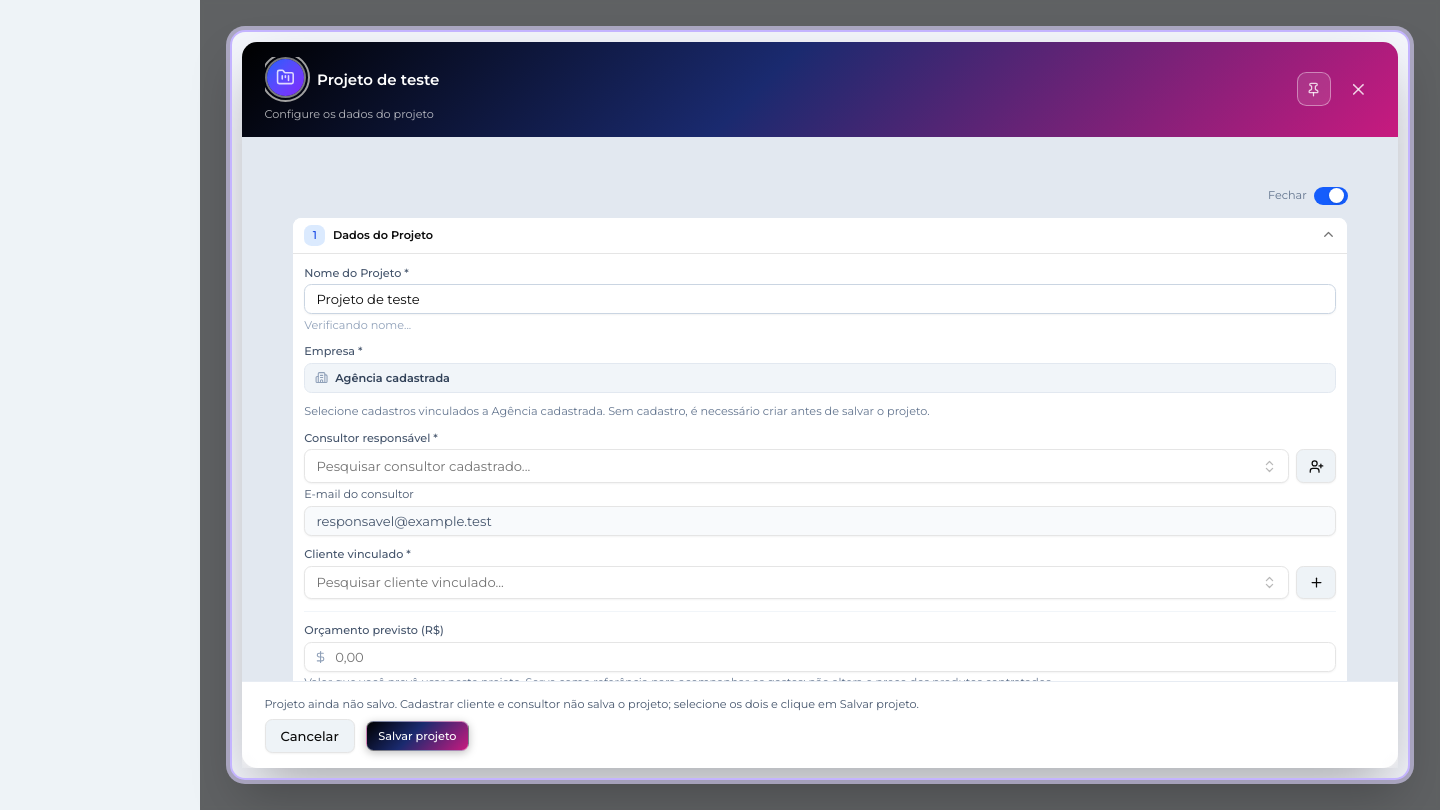
Test case: Formulário REAL de projeto dentro do checkout › reúne orçamento e configurações no único bloco Dados do Projeto, visíveis e salvos juntos
Later steps or results of the test are not shown.
Type "500,00" into the field labelled "Orçamento previsto (R$)". click: (820, 656)
box: [304,642,1336,672]
(page scrolled)
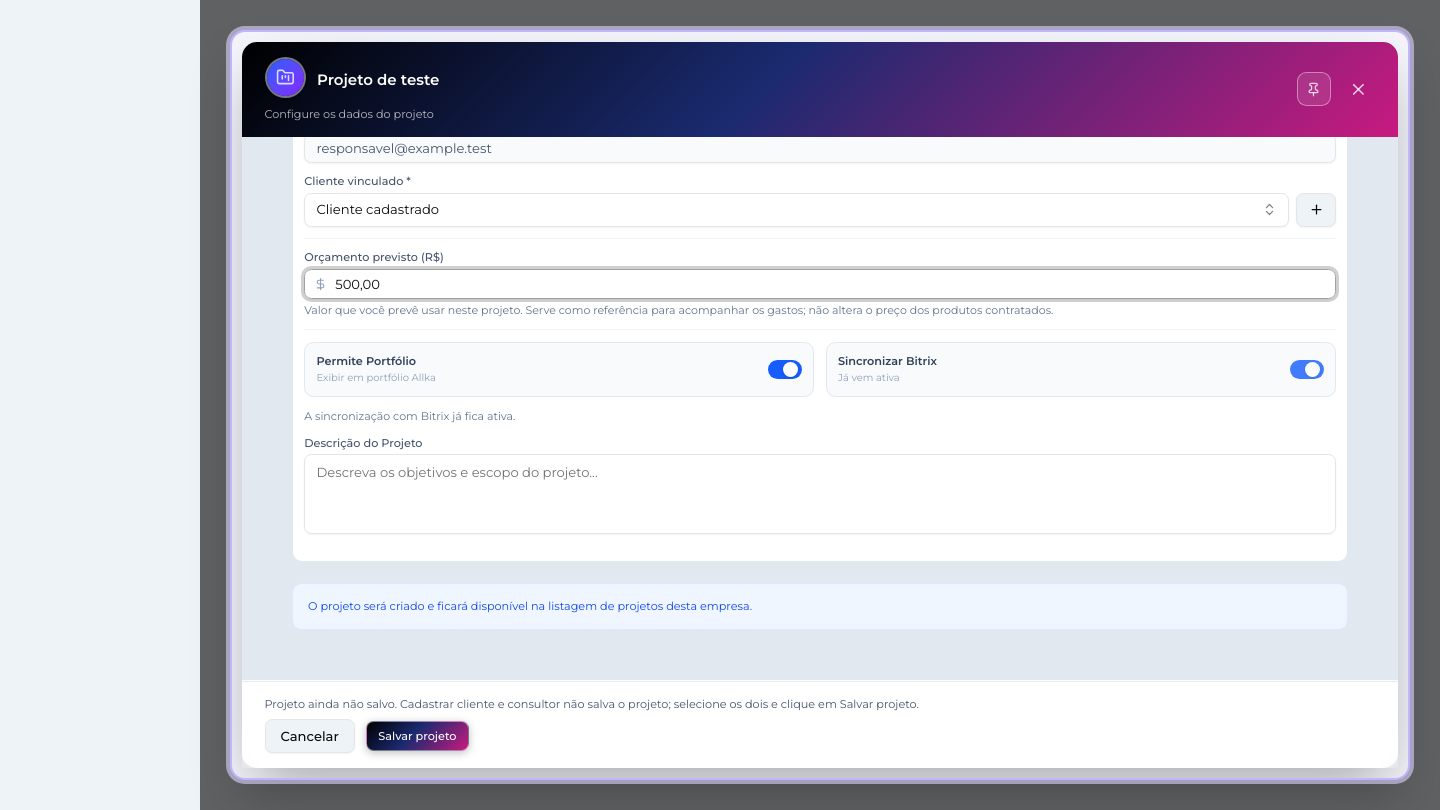
Type "Objetivos de teste" into the text box labelled "Descrição do Projeto". click: (820, 494)
box: [304,454,1336,534]
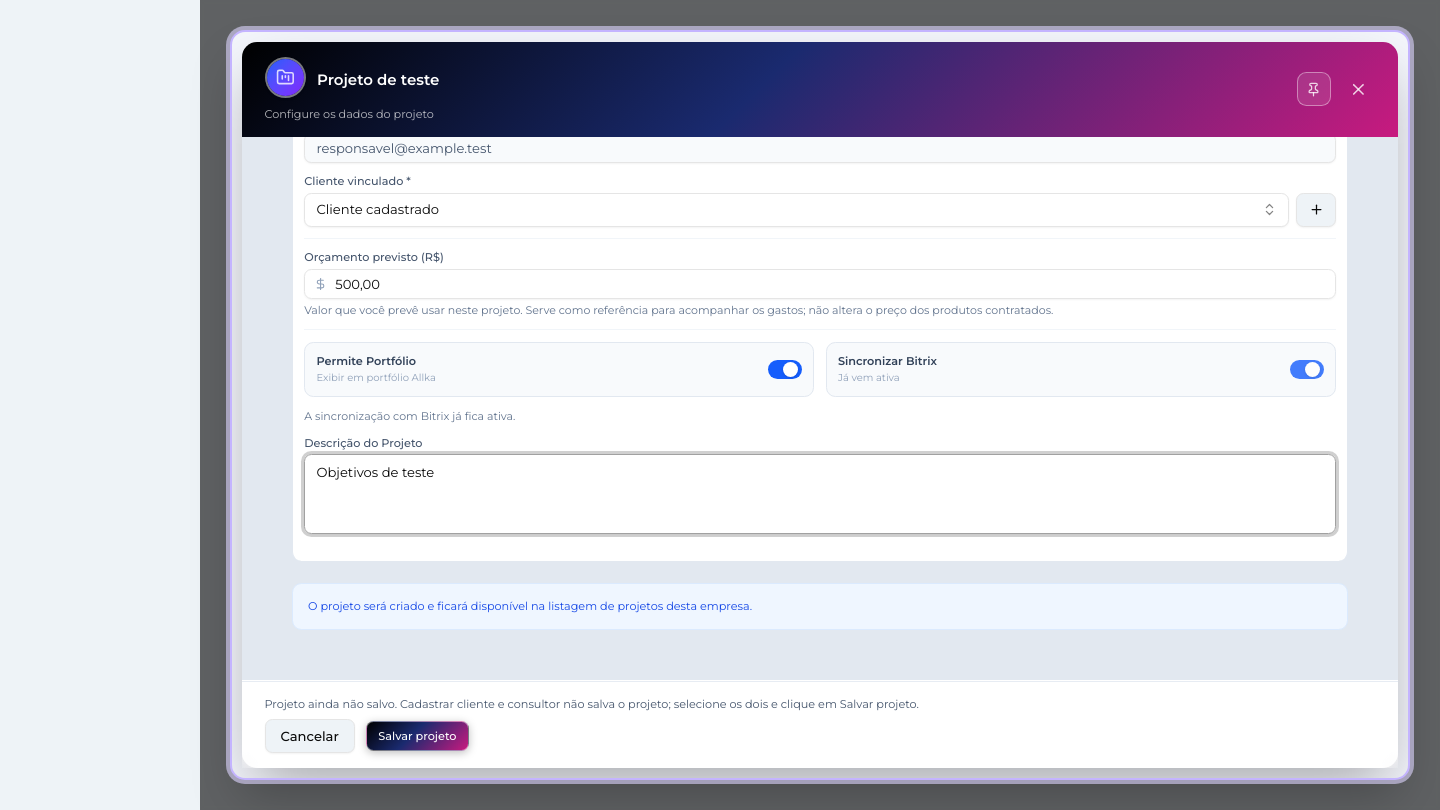
Click the button named "Permite Portfólio". click: click(785, 370)
box: [768,360,802,379]
(page scrolled)
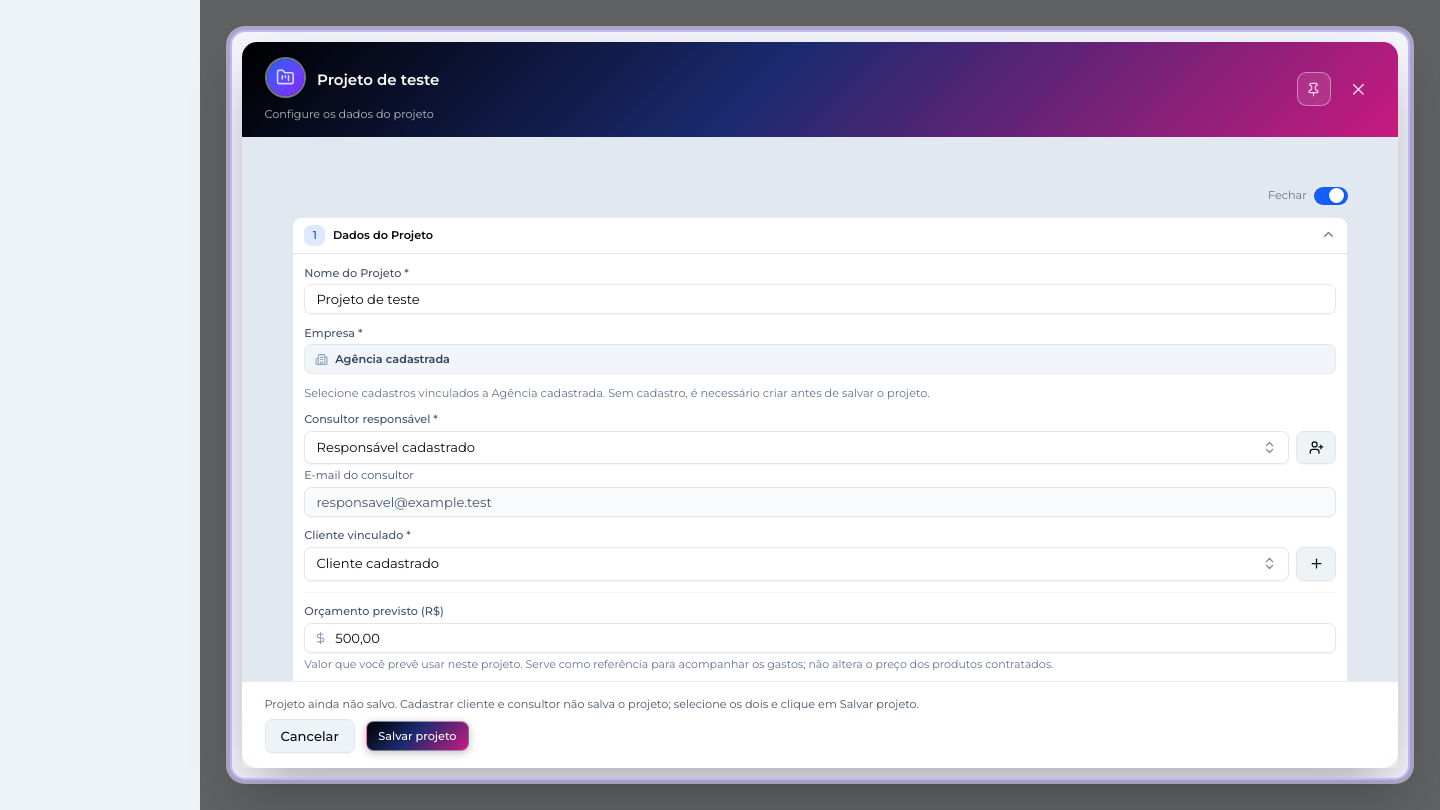
Click the button "1 Dados do Projeto". click: click(383, 235)
box: [293,218,1347,253]
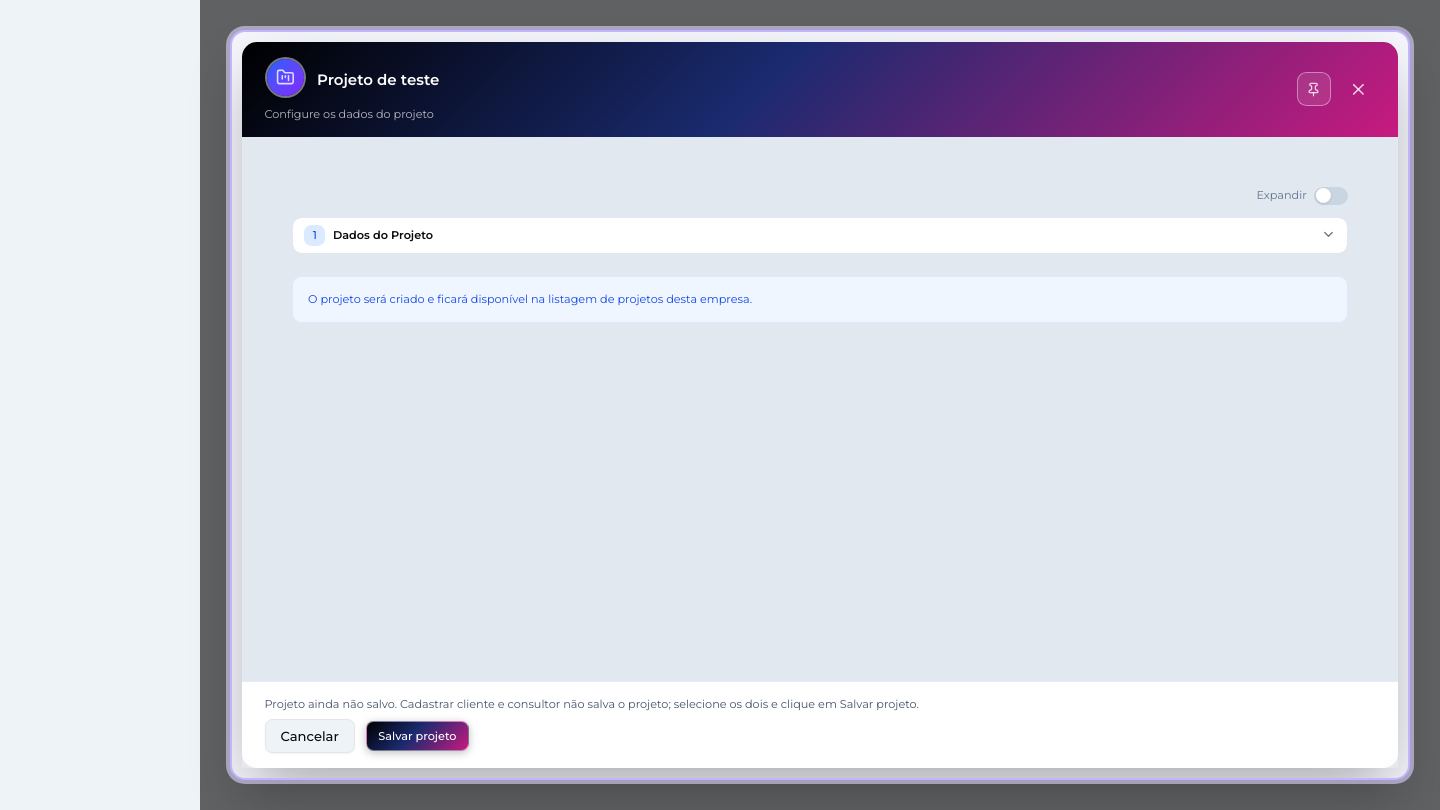
Expected: the label "Orçamento previsto (R$)" is gone
Click the button "1 Dados do Projeto". click: click(383, 235)
box: [293,218,1347,253]
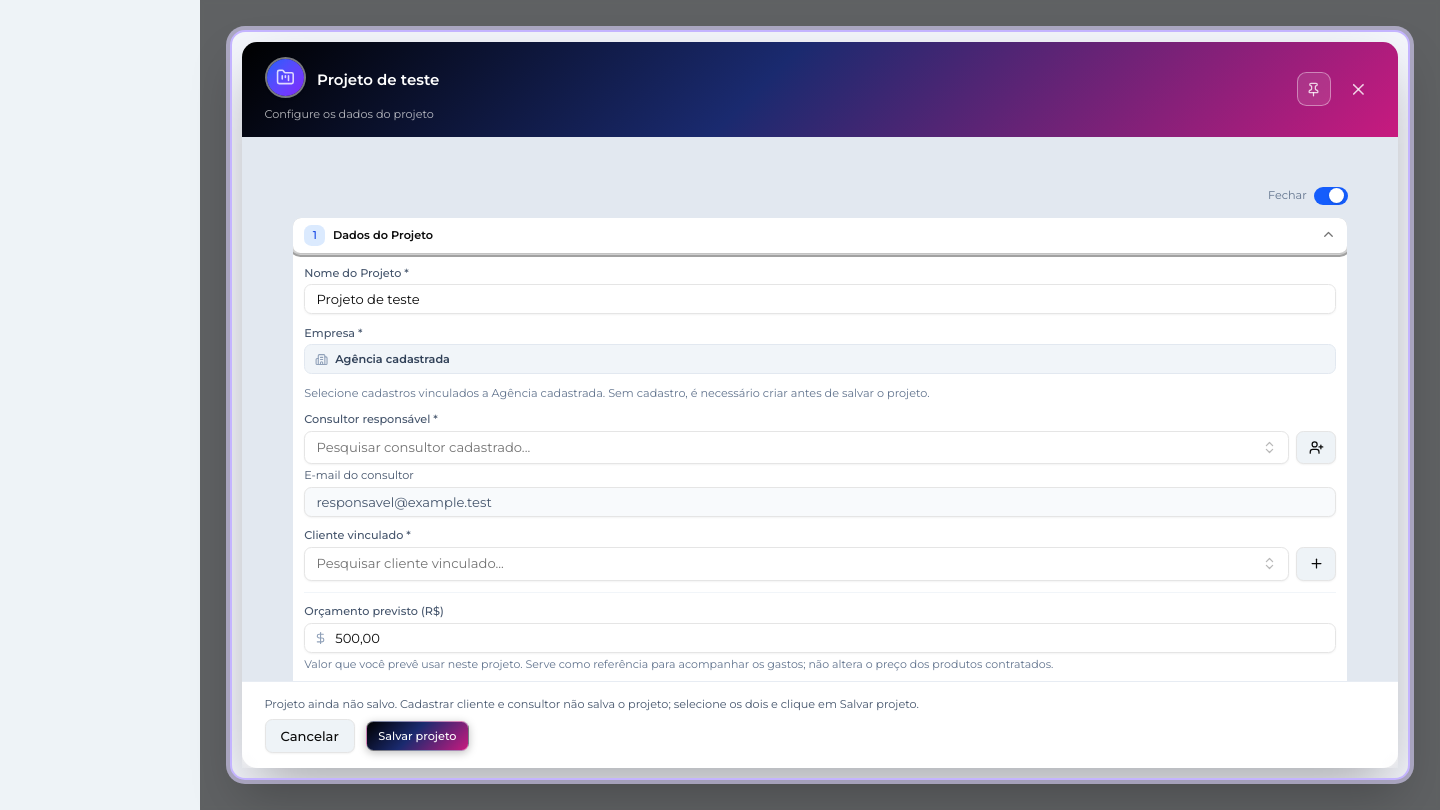
Expected: the field labelled "Orçamento previsto (R$)" holds "500,00", [304,623,1336,653]
